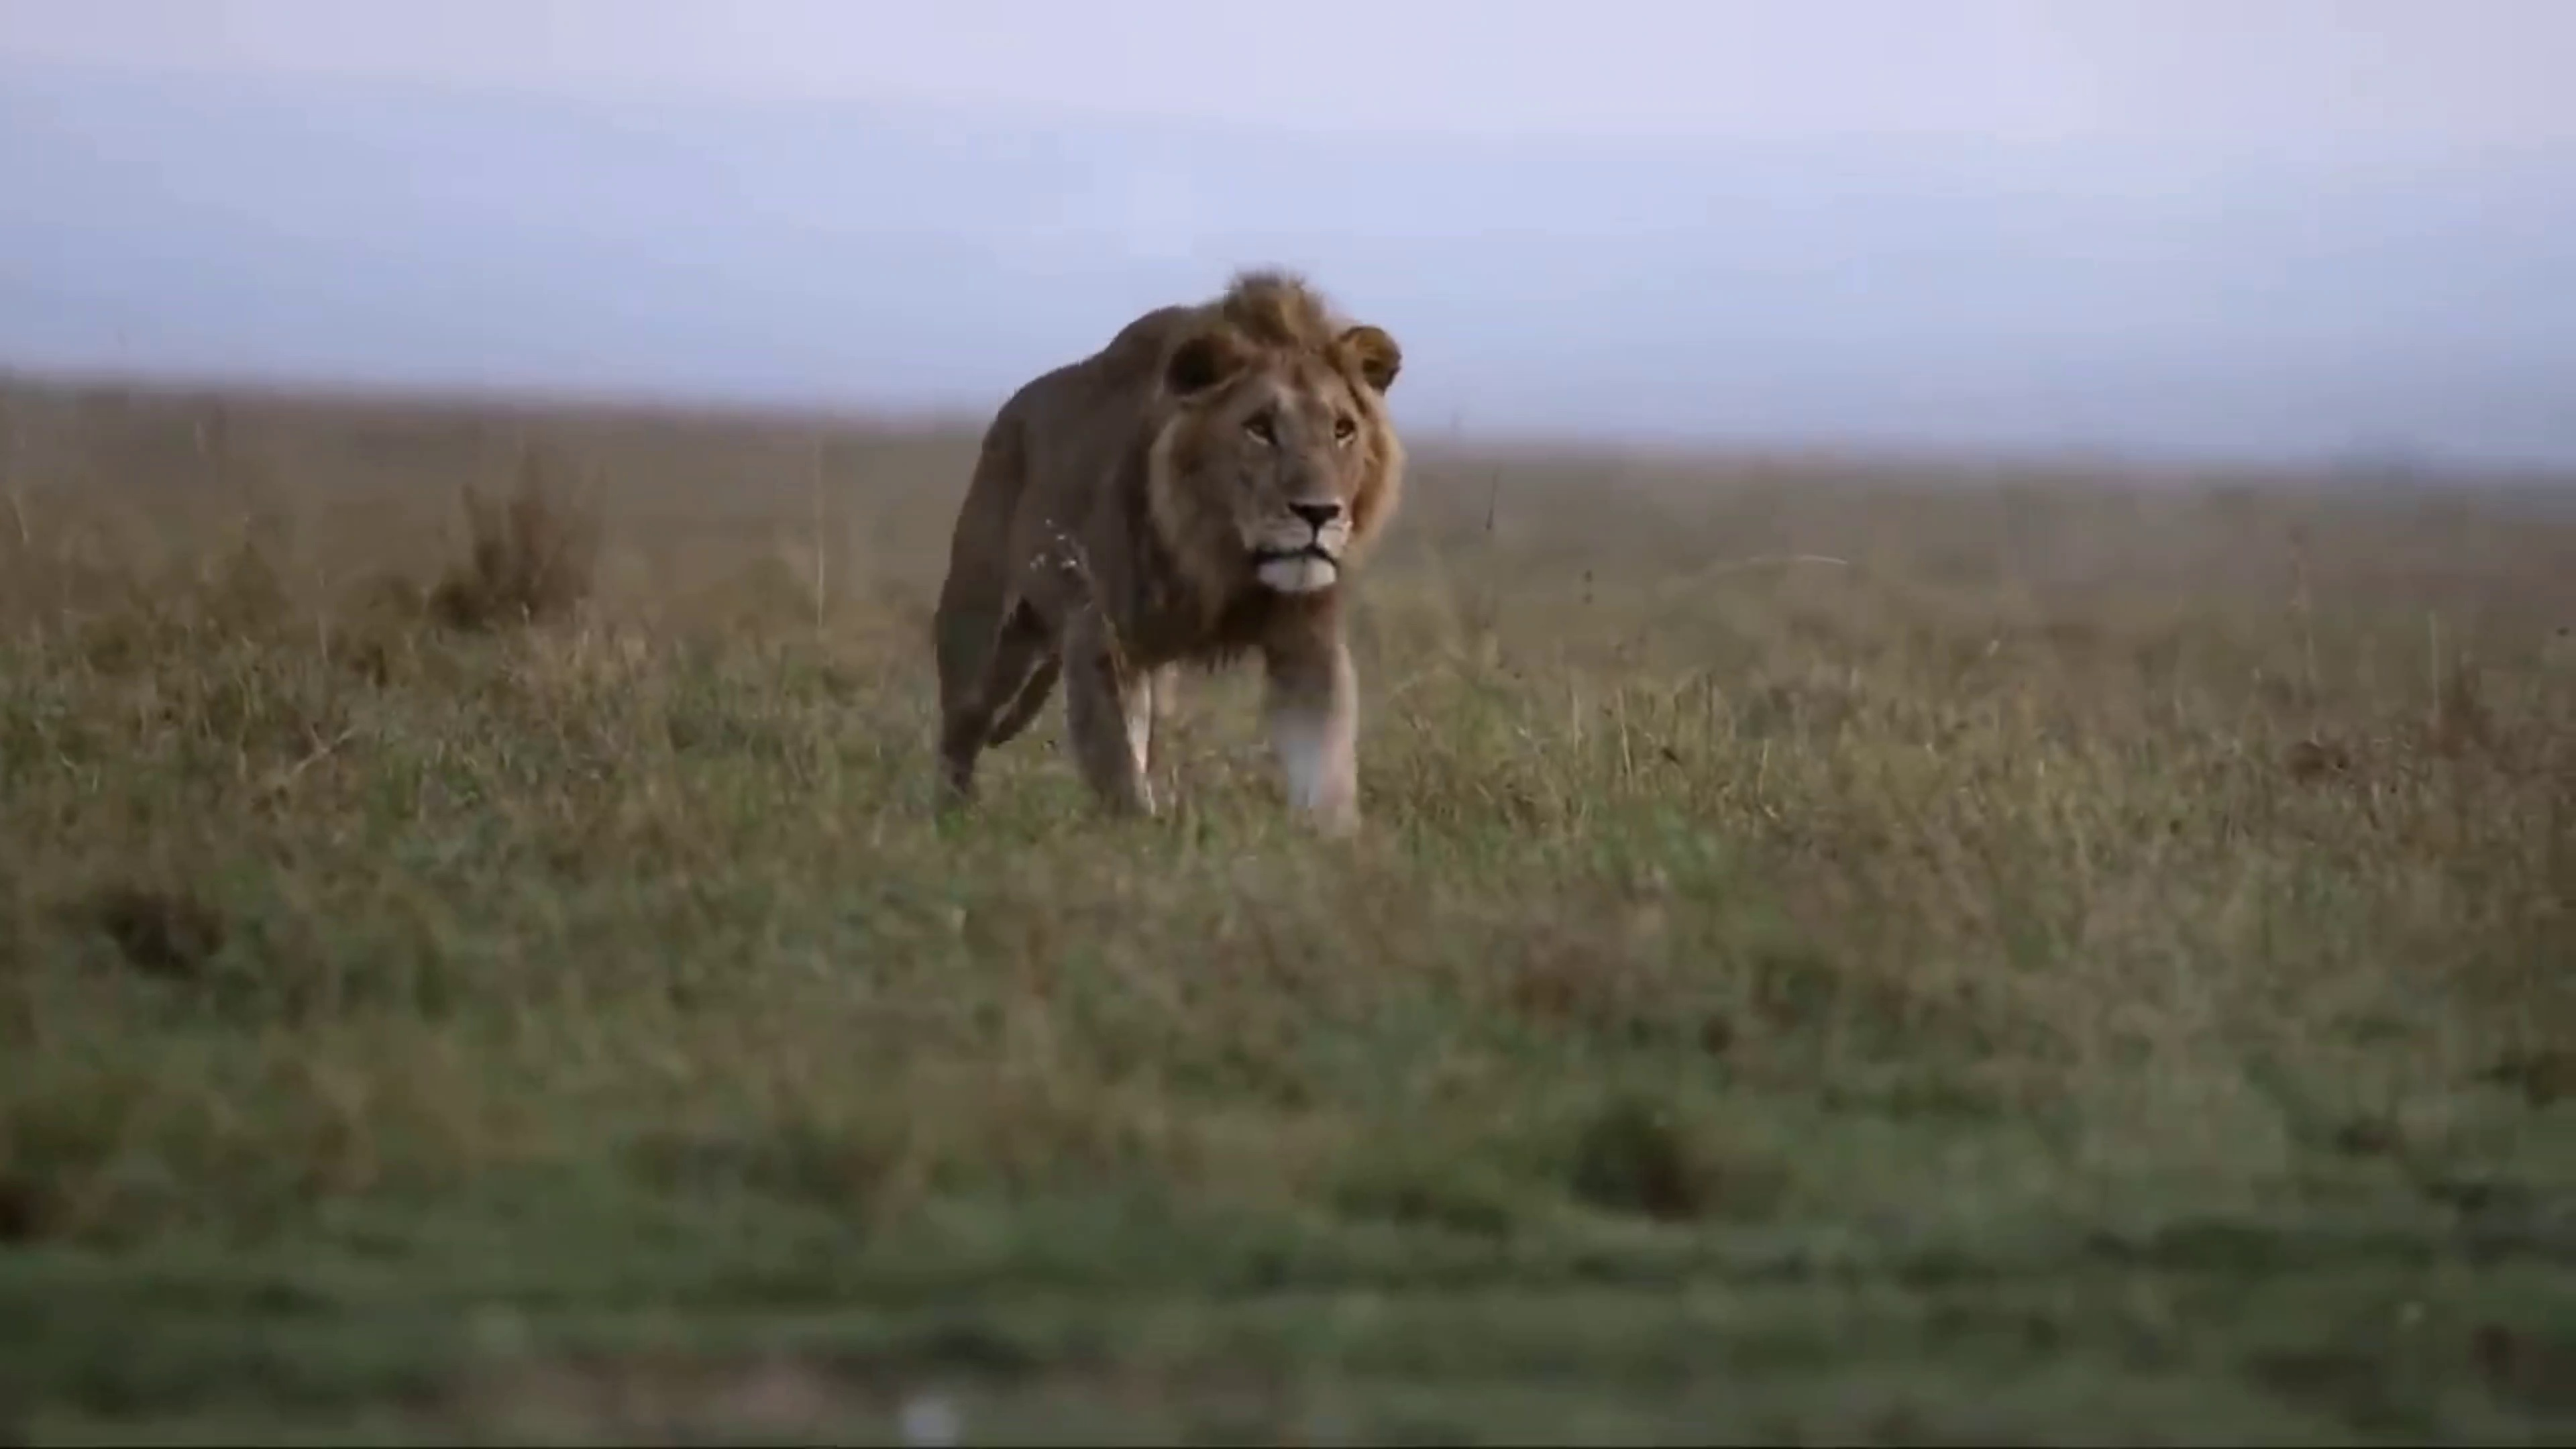Lion: (936, 271, 1407, 839)
